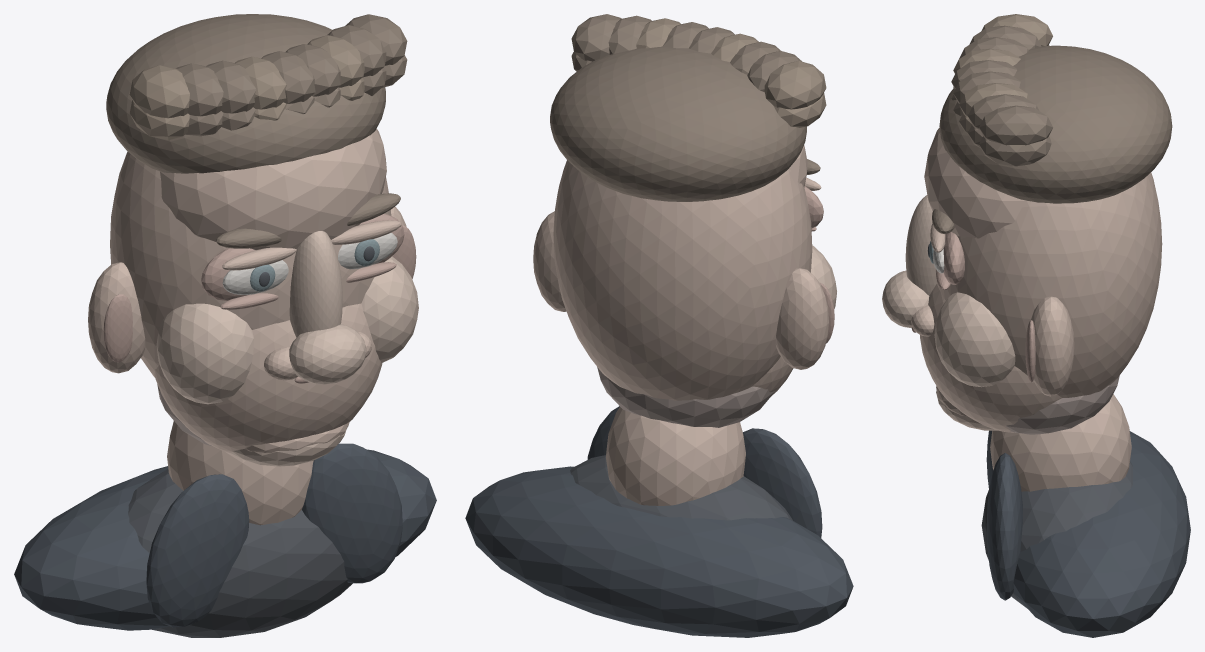
The model's file is tds_ga3_face.glb.
The picture shows the model from 3 angles, left to right: view 1: azimuth 30°, elevation 25°; view 2: azimuth 150°, elevation 25°; view 3: azimuth 270°, elevation 25°; orthographic projection. The views are drawn at different scales.
Visible parts, largest first — view 1: hair cap, coat shoulders, forehead, black shirt, head, jaw, lapel -1, lapel 1, left cheek, neck, nose bridge, right cheek (+26 smaller); view 2: head, coat shoulders, hair cap, neck, black shirt, lapel -1, stubble jaw, left ear, hair tuft 9, right ear, hair tuft 17, hair tuft 16 (+10 smaller); view 3: head, hair cap, coat shoulders, neck, right cheek, jaw, forehead, black shirt, lapel 1, right ear, stubble jaw, hair tuft 17 (+14 smaller).
Part boxes in pixels (<box>): hair cap: <box>106,14,385,173</box>; coat shoulders: <box>14,449,436,630</box>; forehead: <box>160,128,386,249</box>; black shirt: <box>128,469,352,637</box>; head: <box>110,151,391,377</box>; jaw: <box>154,303,382,453</box>; lapel -1: <box>146,474,249,627</box>; lapel 1: <box>302,443,402,583</box>; left cheek: <box>156,303,253,404</box>; neck: <box>167,421,313,525</box>; nose bridge: <box>289,231,342,337</box>; right cheek: <box>361,256,418,363</box>; head: <box>553,160,812,400</box>; coat shoulders: <box>465,466,853,637</box>; hair cap: <box>550,46,806,201</box>; neck: <box>605,407,745,505</box>; black shirt: <box>570,455,792,520</box>; lapel -1: <box>743,428,822,537</box>; stubble jaw: <box>597,367,775,427</box>; left ear: <box>775,268,828,369</box>; hair tuft 9: <box>764,61,826,109</box>; right ear: <box>533,211,566,311</box>; hair tuft 17: <box>571,14,621,61</box>; hair tuft 16: <box>608,15,651,54</box>; head: <box>935,172,1162,397</box>; hair cap: <box>939,45,1172,203</box>; coat shoulders: <box>1013,431,1190,637</box>; neck: <box>990,394,1131,491</box>; right cheek: <box>934,292,1015,387</box>; jaw: <box>920,284,1061,432</box>; forehead: <box>924,128,1026,238</box>; black shirt: <box>981,461,1132,607</box>; lapel 1: <box>986,453,1022,600</box>; right ear: <box>1031,296,1074,396</box>; stubble jaw: <box>1006,376,1119,434</box>; hair tuft 17: <box>979,105,1052,145</box>.
Size of the model in its own units: 2.5 by 3.52 by 1.83.
